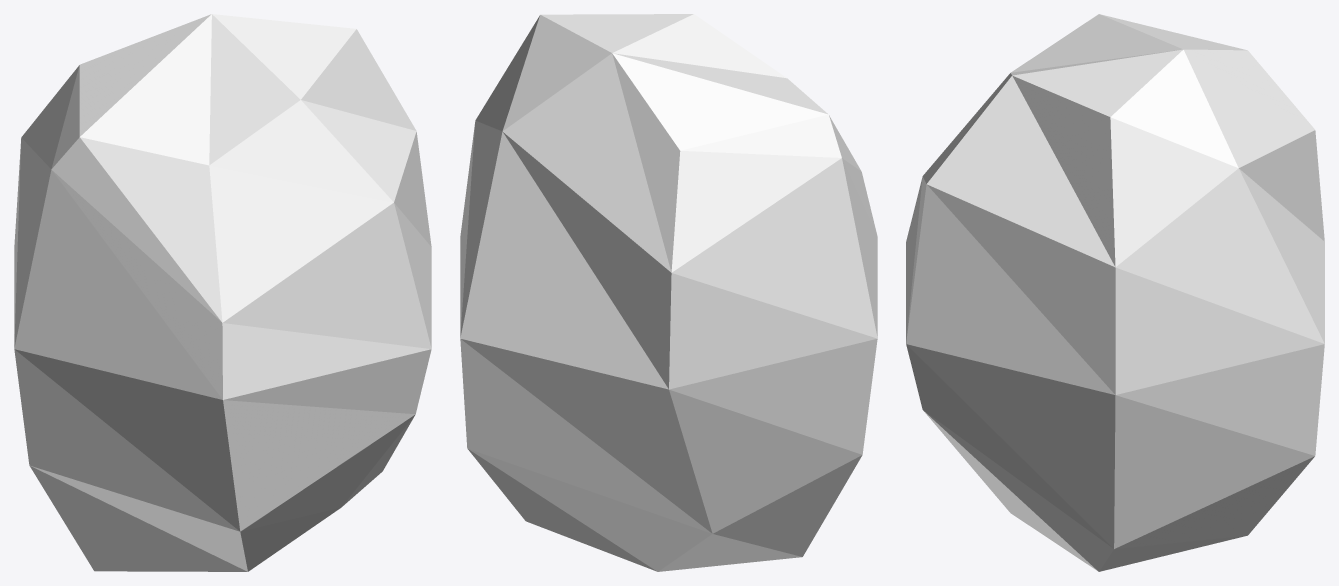
The model's file is Rock_White_3.fbx.
3 renders of one model, left to right at view 1: azimuth 30°, elevation 25°; view 2: azimuth 150°, elevation 25°; view 3: azimuth 270°, elevation 25°, orthographic.
Visible parts, largest first — view 1: Rock_White_3; view 2: Rock_White_3; view 3: Rock_White_3.
Boxes of the visible parts, bbox=[...] form: Rock_White_3: bbox=[14, 14, 431, 571]; Rock_White_3: bbox=[460, 14, 877, 571]; Rock_White_3: bbox=[906, 14, 1324, 571].
Size of the model in its own units: 2 by 2.32 by 1.73.
